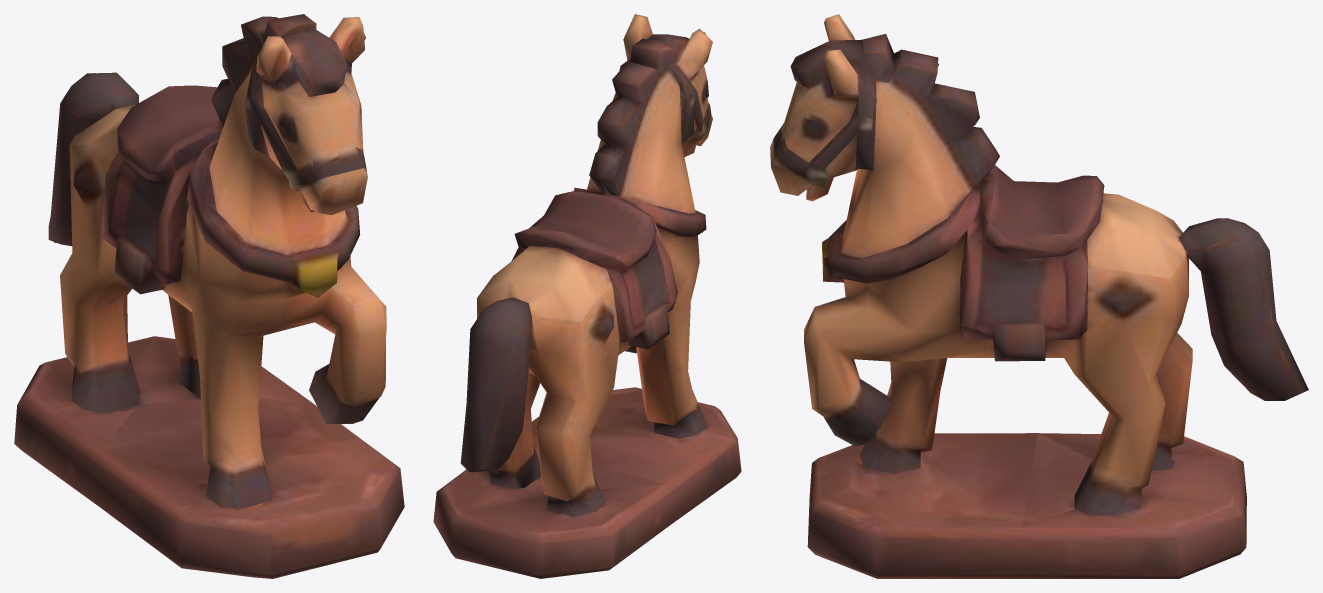
File: lg-saddle-horse-statue.glb
3 views of the same model, side by side, from view 1: azimuth 30°, elevation 25°; view 2: azimuth 150°, elevation 25°; view 3: azimuth 270°, elevation 25° (orthographic). The views are drawn at different scales.
Visible parts, largest first — view 1: geometry_0; view 2: geometry_0; view 3: geometry_0.
Part boxes in pixels (x1,y1,x2,y2): geometry_0: [14, 14, 404, 578]; geometry_0: [433, 14, 741, 578]; geometry_0: [770, 14, 1308, 578].
Size of the model in its own units: 0.4498 by 1 by 0.9815.
1 material, 1 textured.
